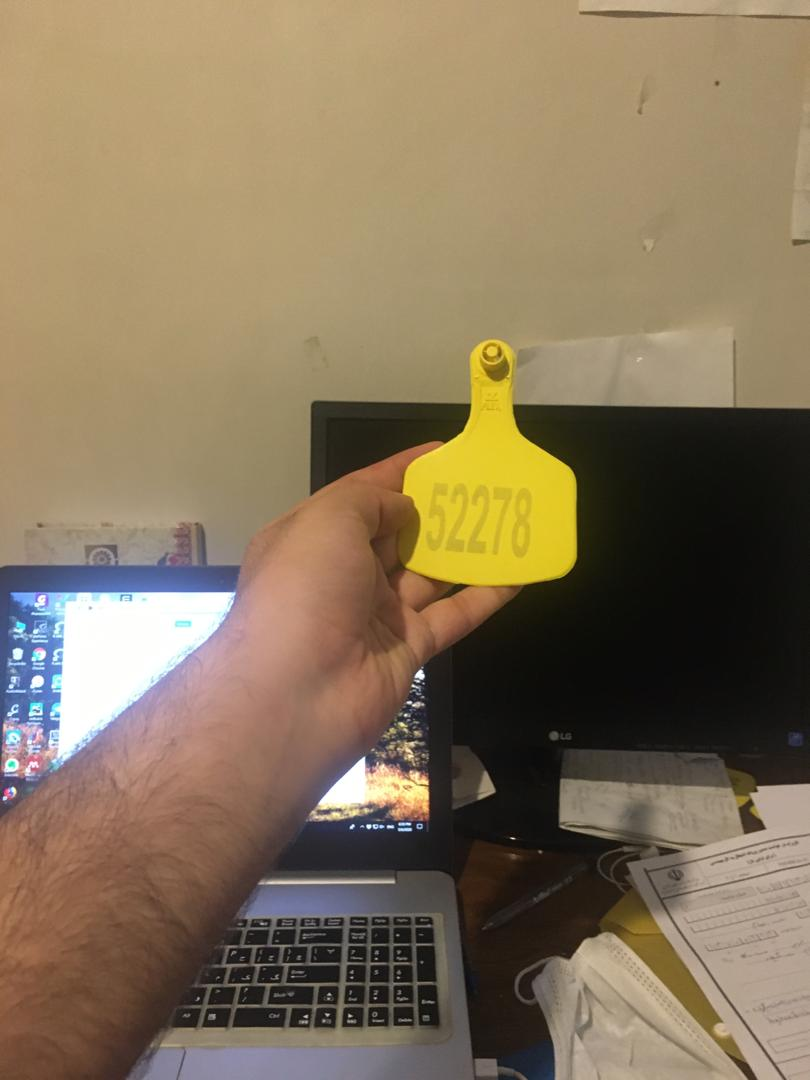digit: (425, 481, 533, 557)
